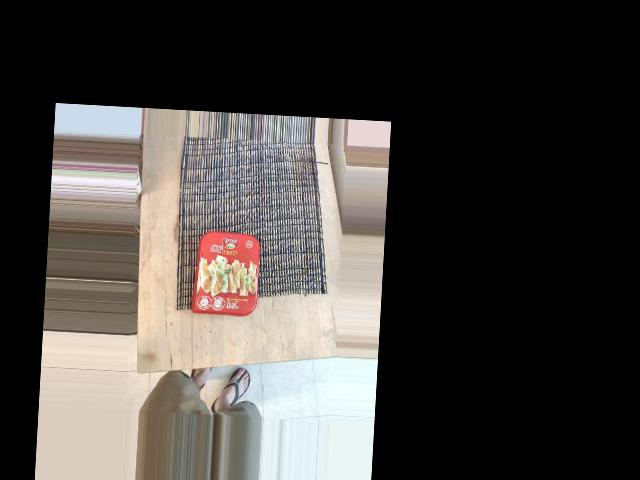cheese: (219, 208, 327, 316)
